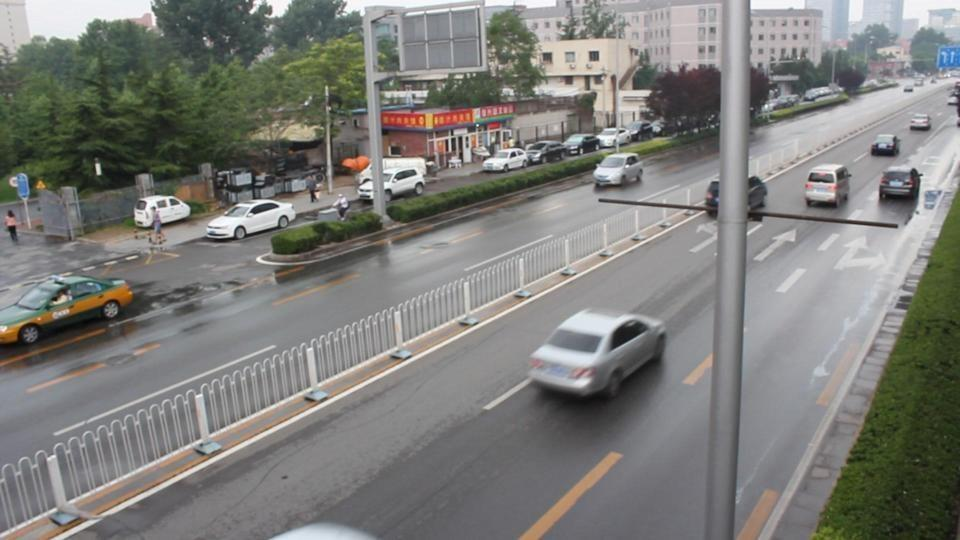car: (527, 307, 668, 401), (0, 273, 135, 345), (205, 199, 295, 242), (355, 162, 429, 201), (703, 175, 768, 219), (802, 164, 852, 208), (592, 153, 644, 188), (133, 195, 190, 226), (878, 165, 921, 200), (481, 150, 530, 174), (525, 140, 570, 166), (562, 132, 603, 153), (595, 127, 633, 149), (623, 122, 664, 142), (803, 85, 845, 102), (870, 134, 901, 157), (908, 112, 930, 131), (949, 83, 960, 106)
